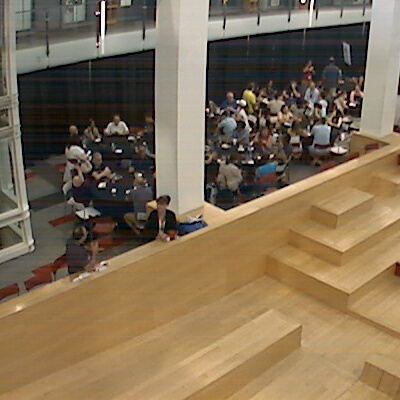head: (153, 191, 173, 214), (70, 226, 89, 245), (90, 151, 104, 167), (335, 86, 348, 103), (223, 89, 236, 105), (278, 131, 290, 147), (109, 112, 123, 125), (263, 76, 277, 89), (74, 161, 87, 174), (234, 120, 248, 132), (68, 124, 80, 137), (302, 59, 316, 70), (86, 116, 97, 129), (235, 99, 248, 110), (134, 176, 148, 186), (259, 127, 271, 138), (306, 81, 318, 91), (352, 84, 362, 95), (274, 93, 286, 102), (219, 111, 231, 120), (289, 77, 299, 87), (316, 93, 328, 101), (246, 82, 255, 92), (319, 117, 329, 126), (282, 105, 290, 116), (327, 56, 336, 65)
